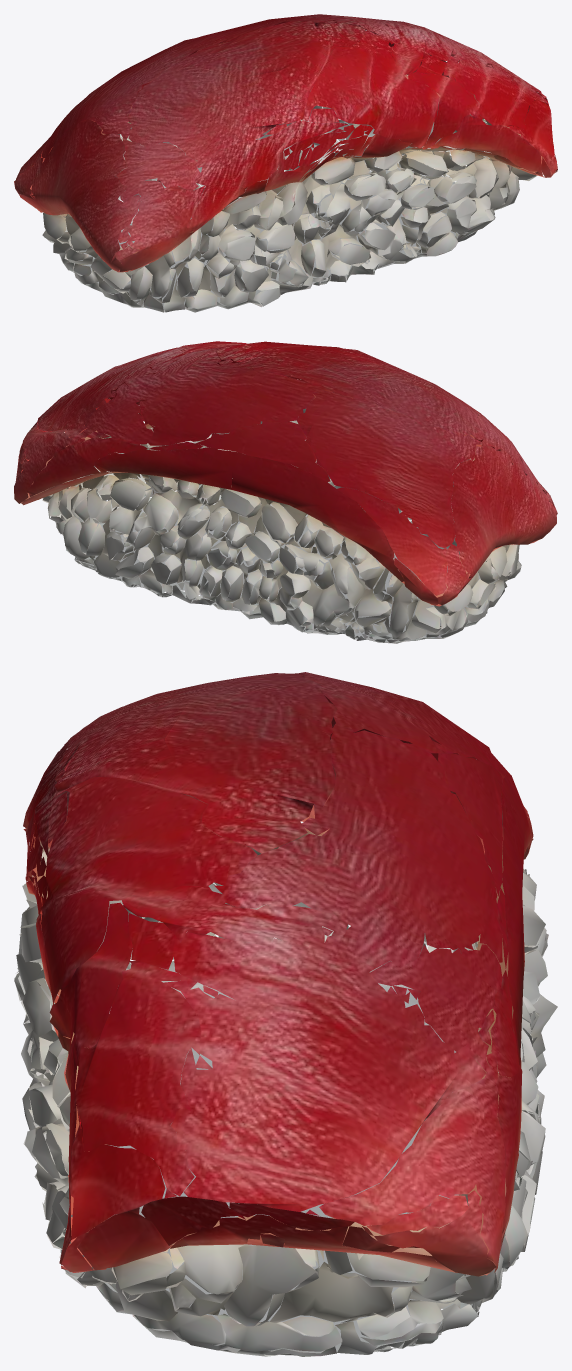
The model's file is tuna.glb.
3 renders of one model, top to bottom at view 1: azimuth 30°, elevation 25°; view 2: azimuth 150°, elevation 25°; view 3: azimuth 270°, elevation 25°, orthographic. The views are drawn at different scales.
Visible parts, largest first — view 1: tuna; view 2: tuna; view 3: tuna.
Part boxes in pixels (x1,y1,x2,y2): tuna: [14, 14, 557, 312]; tuna: [14, 341, 557, 643]; tuna: [14, 672, 557, 1356].
Size of the model in its own units: 1 by 0.429 by 0.5134.
Materials: 1 (1 with a texture image).
